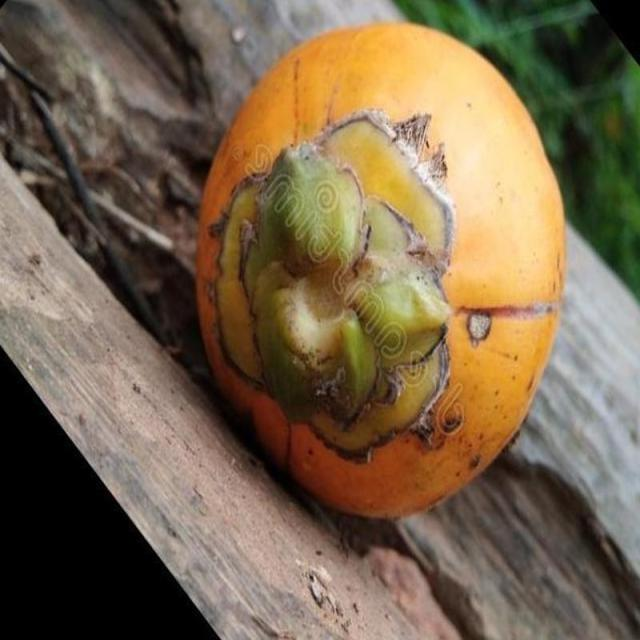good: (194, 21, 570, 524)
